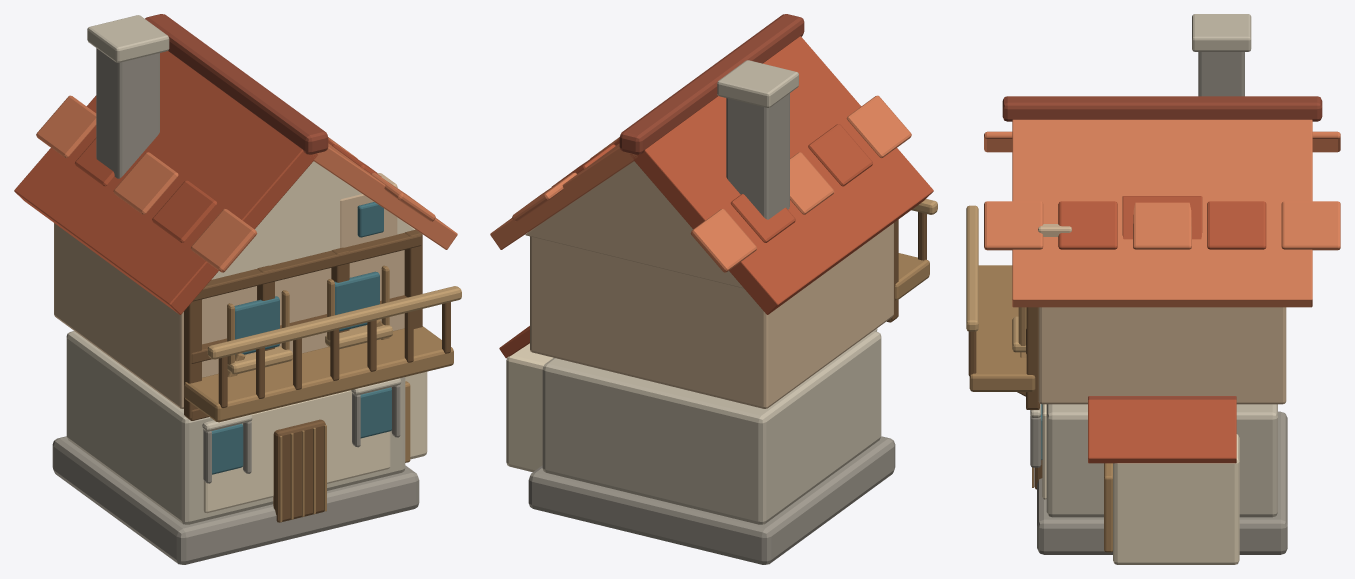
The model's file is house_large_b.glb.
3 views of the same model, side by side, from view 1: azimuth 30°, elevation 25°; view 2: azimuth 150°, elevation 25°; view 3: azimuth 270°, elevation 25° (orthographic). The views are drawn at different scales.
Parts seen in each view (by area): view 1: LargeHouseVariantB_Geometry; view 2: LargeHouseVariantB_Geometry; view 3: LargeHouseVariantB_Geometry.
Boxes of the visible parts, <box> form: LargeHouseVariantB_Geometry: <box>14,14,461,564</box>; LargeHouseVariantB_Geometry: <box>490,14,937,564</box>; LargeHouseVariantB_Geometry: <box>966,14,1340,564</box>.
Size of the model in its own units: 2.57 by 3.52 by 2.72.
